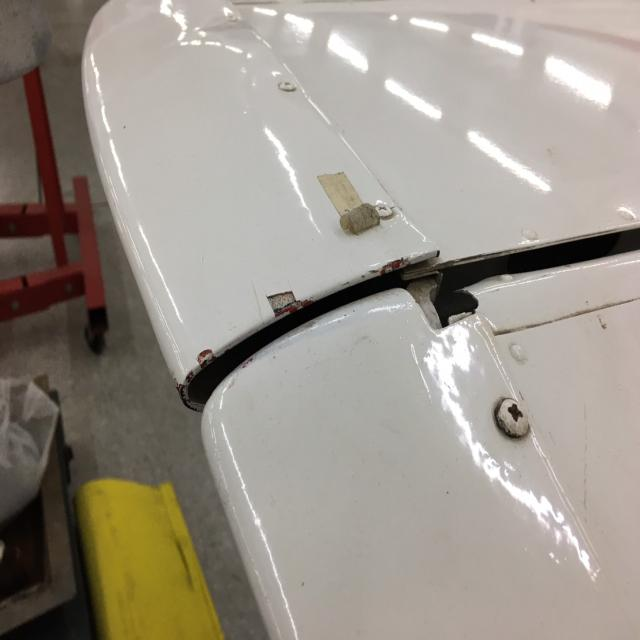Rupture: (256, 253, 348, 322), (191, 322, 233, 374)
